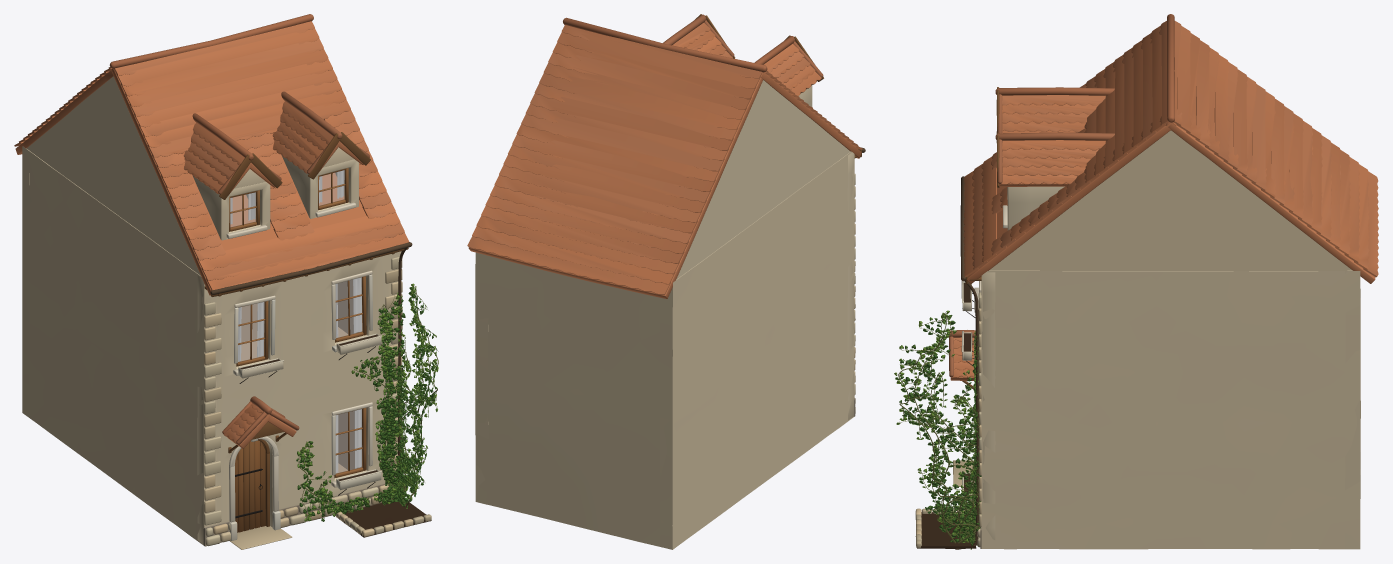
Rendered from LibraryRow_Neighbor4.glb.
The picture shows the model from 3 angles, left to right: view 1: azimuth 30°, elevation 25°; view 2: azimuth 150°, elevation 25°; view 3: azimuth 270°, elevation 25°; orthographic projection. The views are drawn at different scales.
Visible parts, largest first — view 1: Sammel Putz, Sammel Stein, Sammel Pflanze, Sammel Holz, Glas, Sammel Putz innen, Vorhang Leinen, Sammel Metall, Sammel Lack; view 2: Sammel Putz, Sammel Stein; view 3: Sammel Putz, Sammel Stein, Sammel Pflanze, Sammel Metall.
Part boxes in pixels (x1,y1,x2,y2): Sammel Putz: (22,76,438,546); Sammel Stein: (14,14,431,549); Sammel Pflanze: (296,283,438,521); Sammel Holz: (204,132,408,532); Glas: (230,170,361,473); Sammel Putz innen: (238,279,361,472); Vorhang Leinen: (230,170,362,472); Sammel Metall: (210,242,412,518); Sammel Lack: (238,333,382,490); Sammel Putz: (475,80,855,549); Sammel Stein: (467,14,862,413); Sammel Putz: (897,130,1360,549); Sammel Stein: (915,14,1378,548); Sammel Pflanze: (894,310,981,549); Sammel Metall: (960,176,979,545).
Size of what is drawn, in the model's own units: 5.14 by 10.18 by 10.24.
